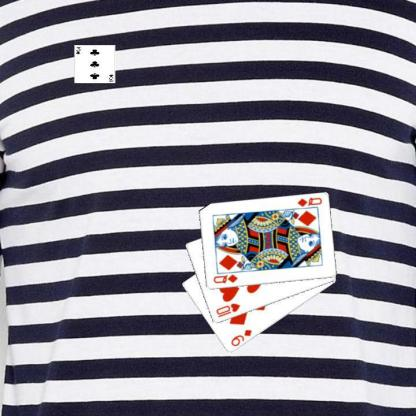10H: (213, 301, 241, 319)
9D: (228, 327, 253, 348)
QD: (211, 271, 239, 285), (295, 195, 323, 208)
